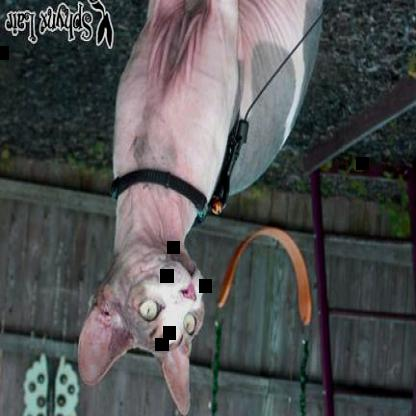cat: (75, 2, 325, 416)
